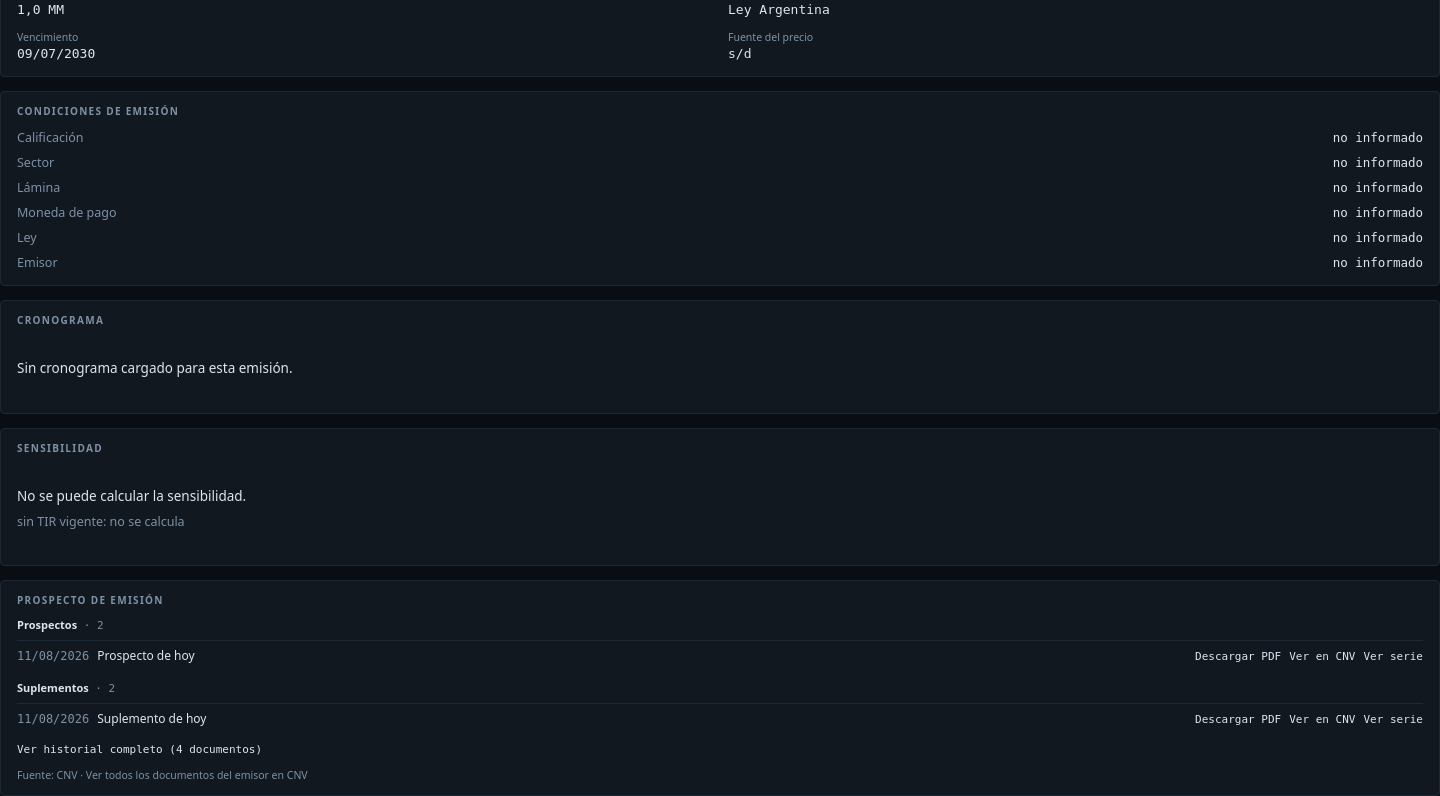
Test: prospecto de emisión › por defecto muestra sólo lo último de cada grupo, con el conteo del historial
(page scrolled)
Expected: the text "Prospecto de hoy" is shown, x1=97 y1=647 x2=195 y2=664
Expected: the text "Suplemento de hoy" is shown, x1=97 y1=710 x2=206 y2=726
Step 1. Click the button "Ver historial completo (4 documentos)" → (140, 750), box x1=17 y1=742 x2=262 y2=758
(page scrolled)
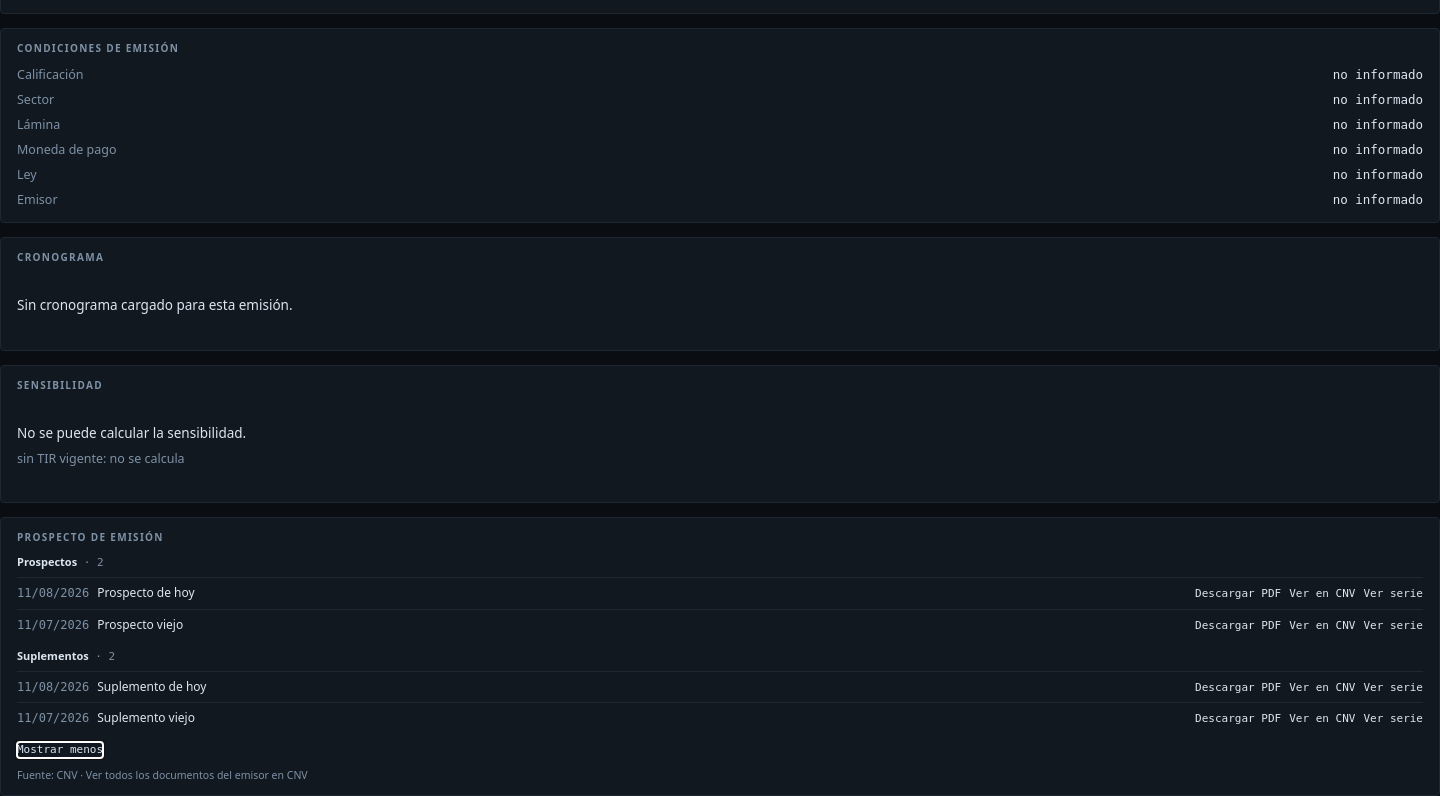
Expected: the link "Ver todos los documentos del emisor en CNV" is shown, x1=86 y1=768 x2=308 y2=782
Now the text "Prospecto viejo" is shown, box x1=97 y1=616 x2=183 y2=633
Now the text "Suplemento viejo" is shown, box x1=97 y1=709 x2=195 y2=726
Step 2. Click the button "Mostrar menos" → (60, 750), box x1=17 y1=742 x2=103 y2=758
(page scrolled)
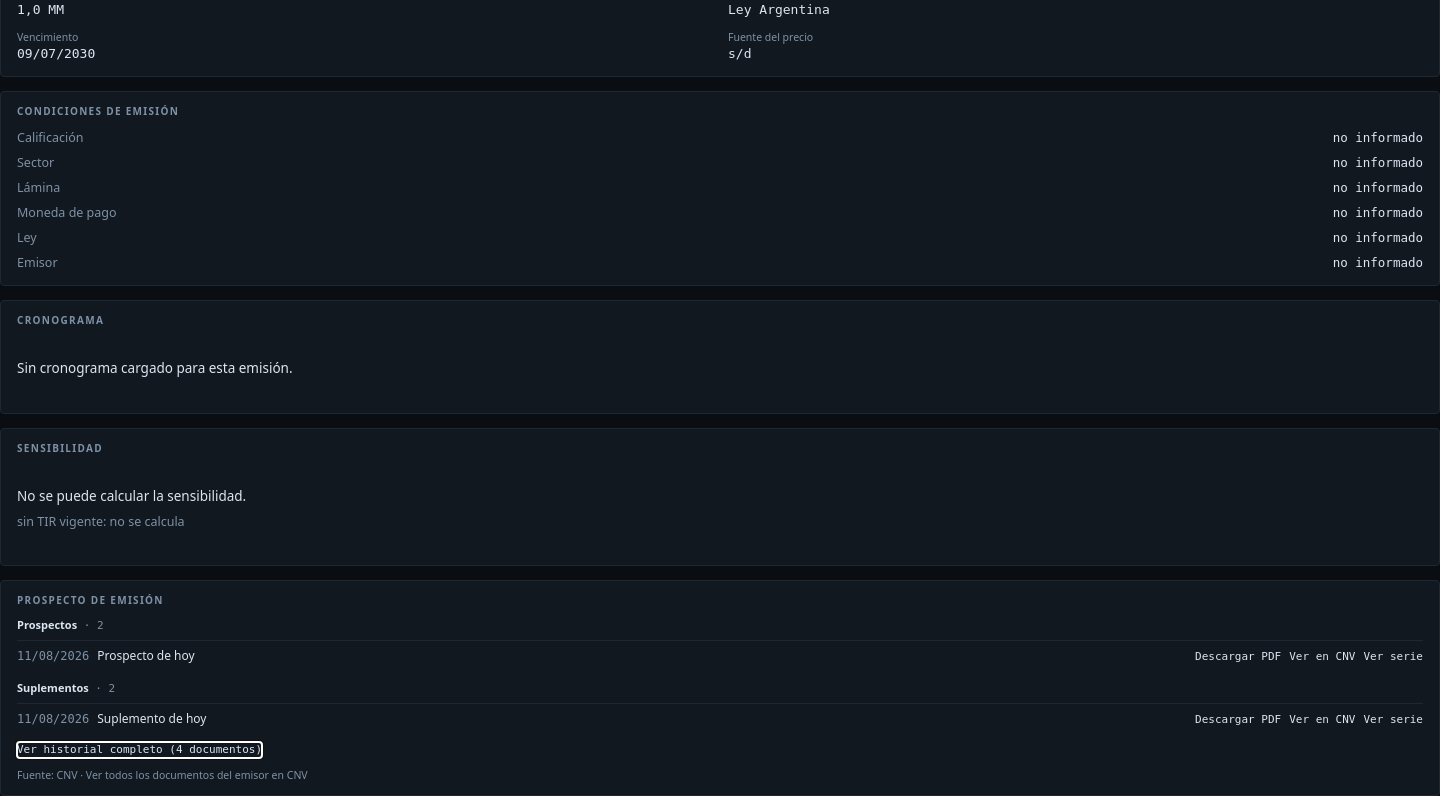
Now the text "Prospecto viejo" is gone
